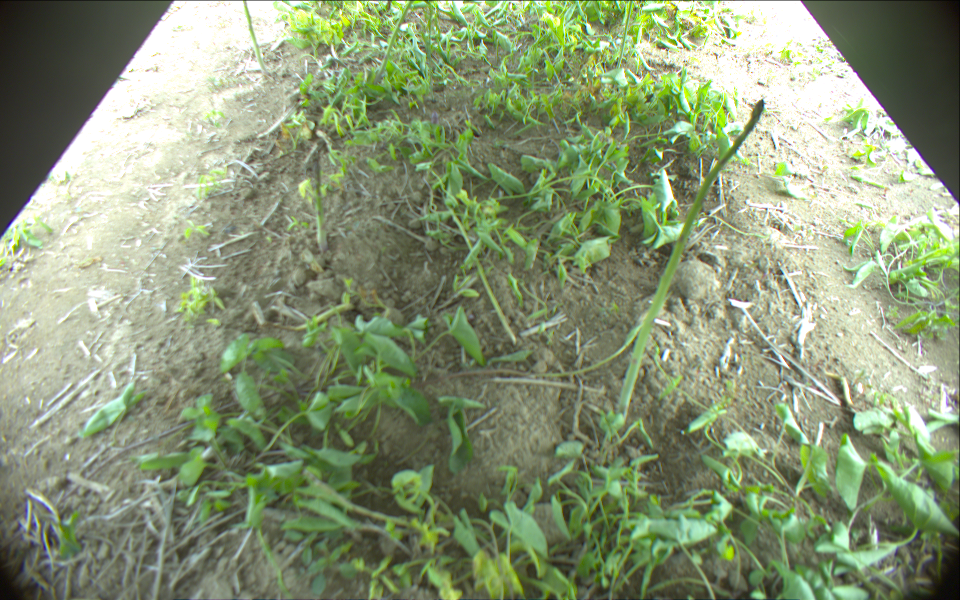aspa: (615, 97, 765, 422), (447, 203, 518, 347), (372, 1, 416, 87), (308, 154, 333, 256), (238, 1, 270, 75), (617, 1, 632, 70)
